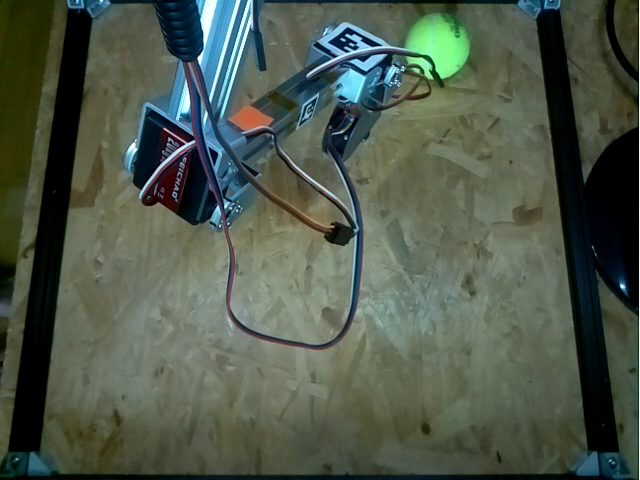tennis_ball: (405, 13, 474, 82)
